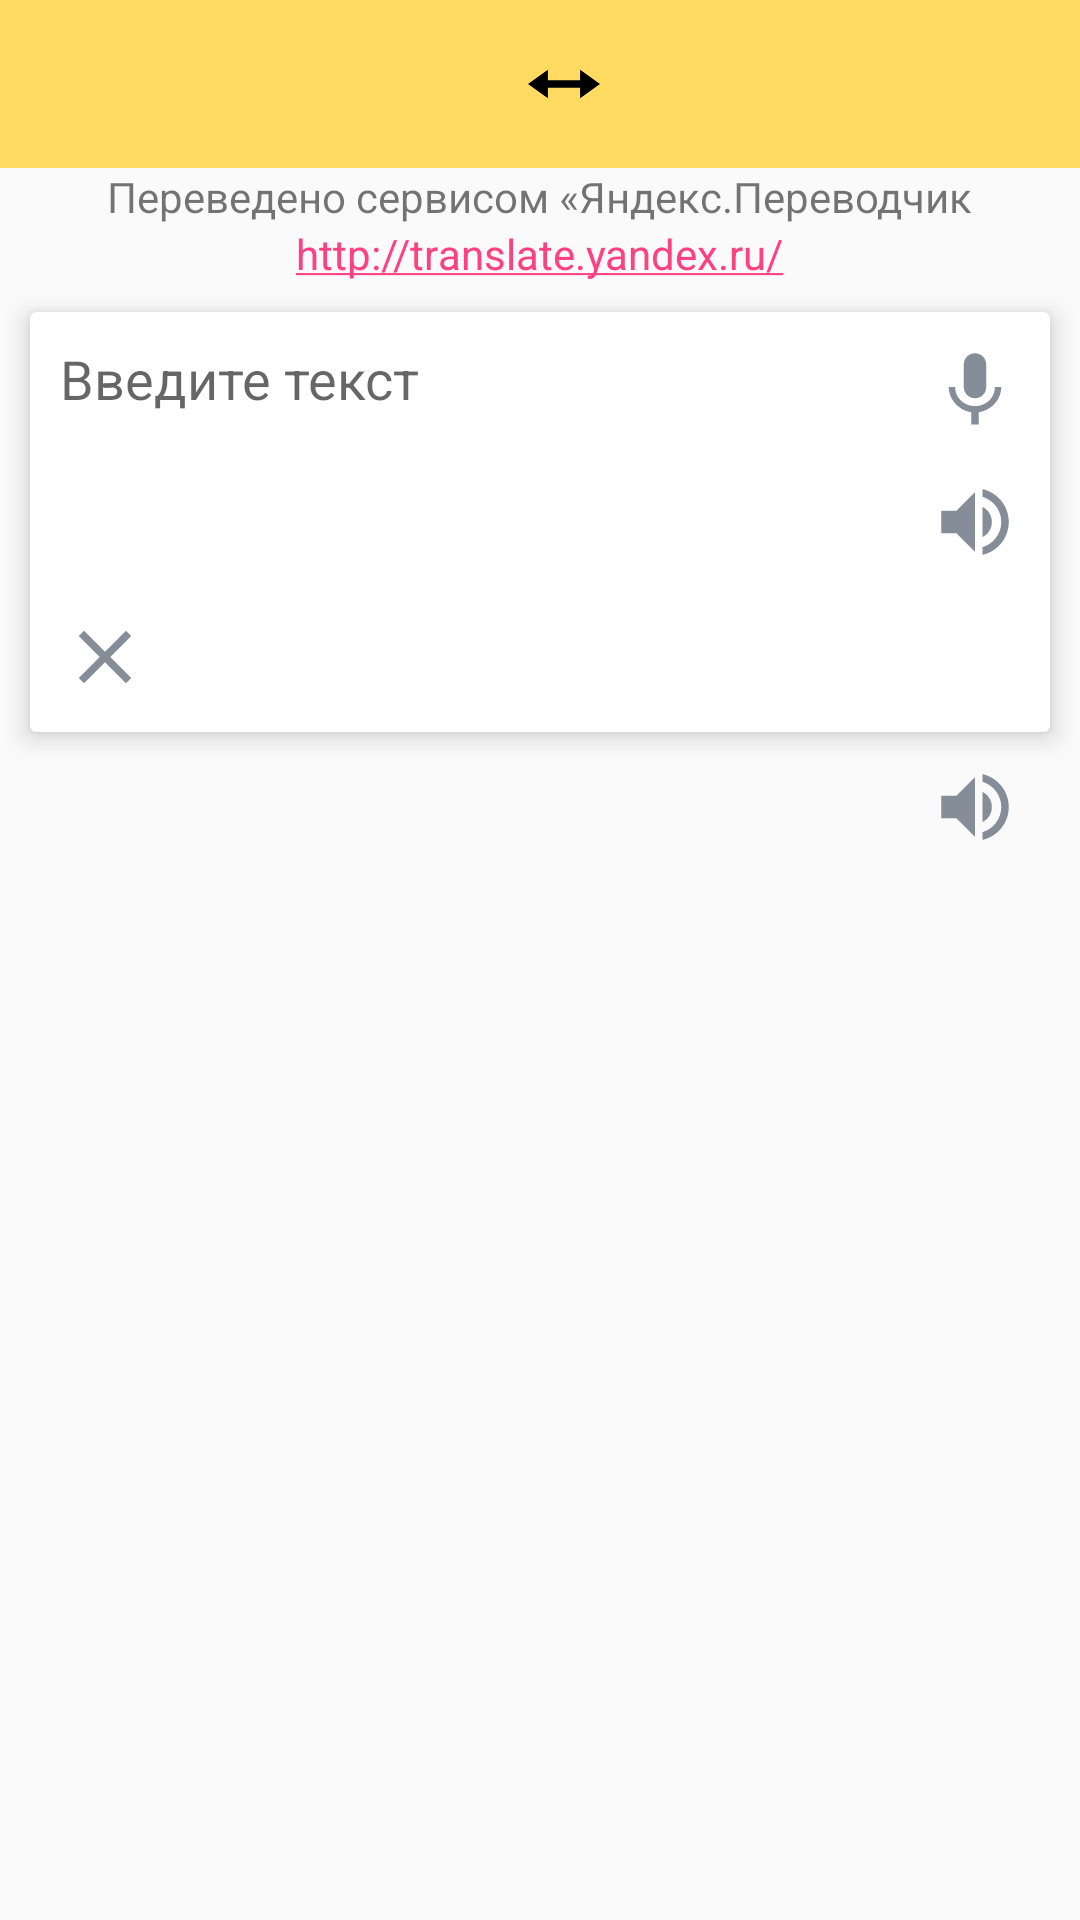

Named icons in this screenshot (1080x1920) and their centers, (x=x, y=y):
clear: (x=105, y=657)
compare arrows: (x=564, y=84)
keyboard voice: (x=975, y=389)
volume up: (x=975, y=522), (x=975, y=807)
